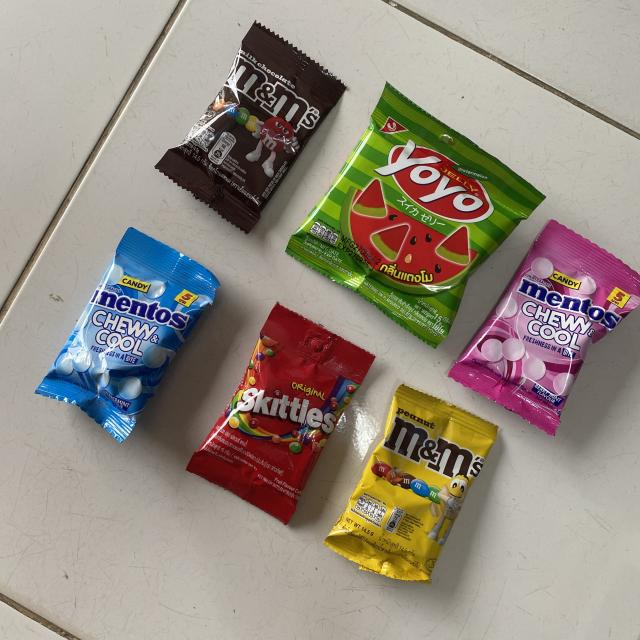plastik: (286, 84, 544, 346), (186, 304, 375, 524), (449, 220, 640, 435), (155, 22, 345, 232), (35, 228, 219, 442), (324, 385, 498, 582)
